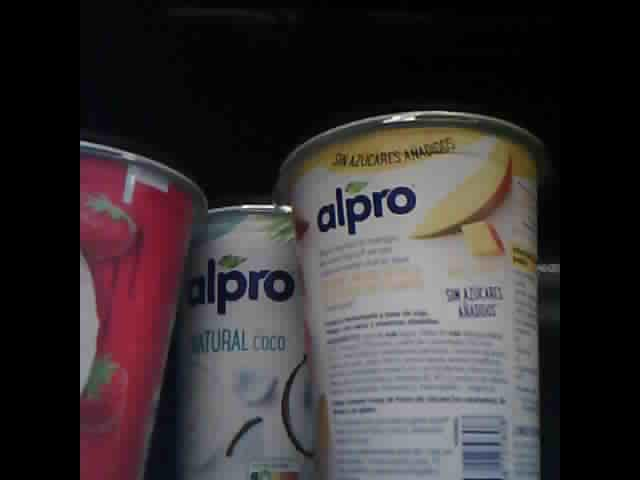alpro: (271, 102, 546, 480), (80, 123, 210, 480), (179, 195, 321, 480)
